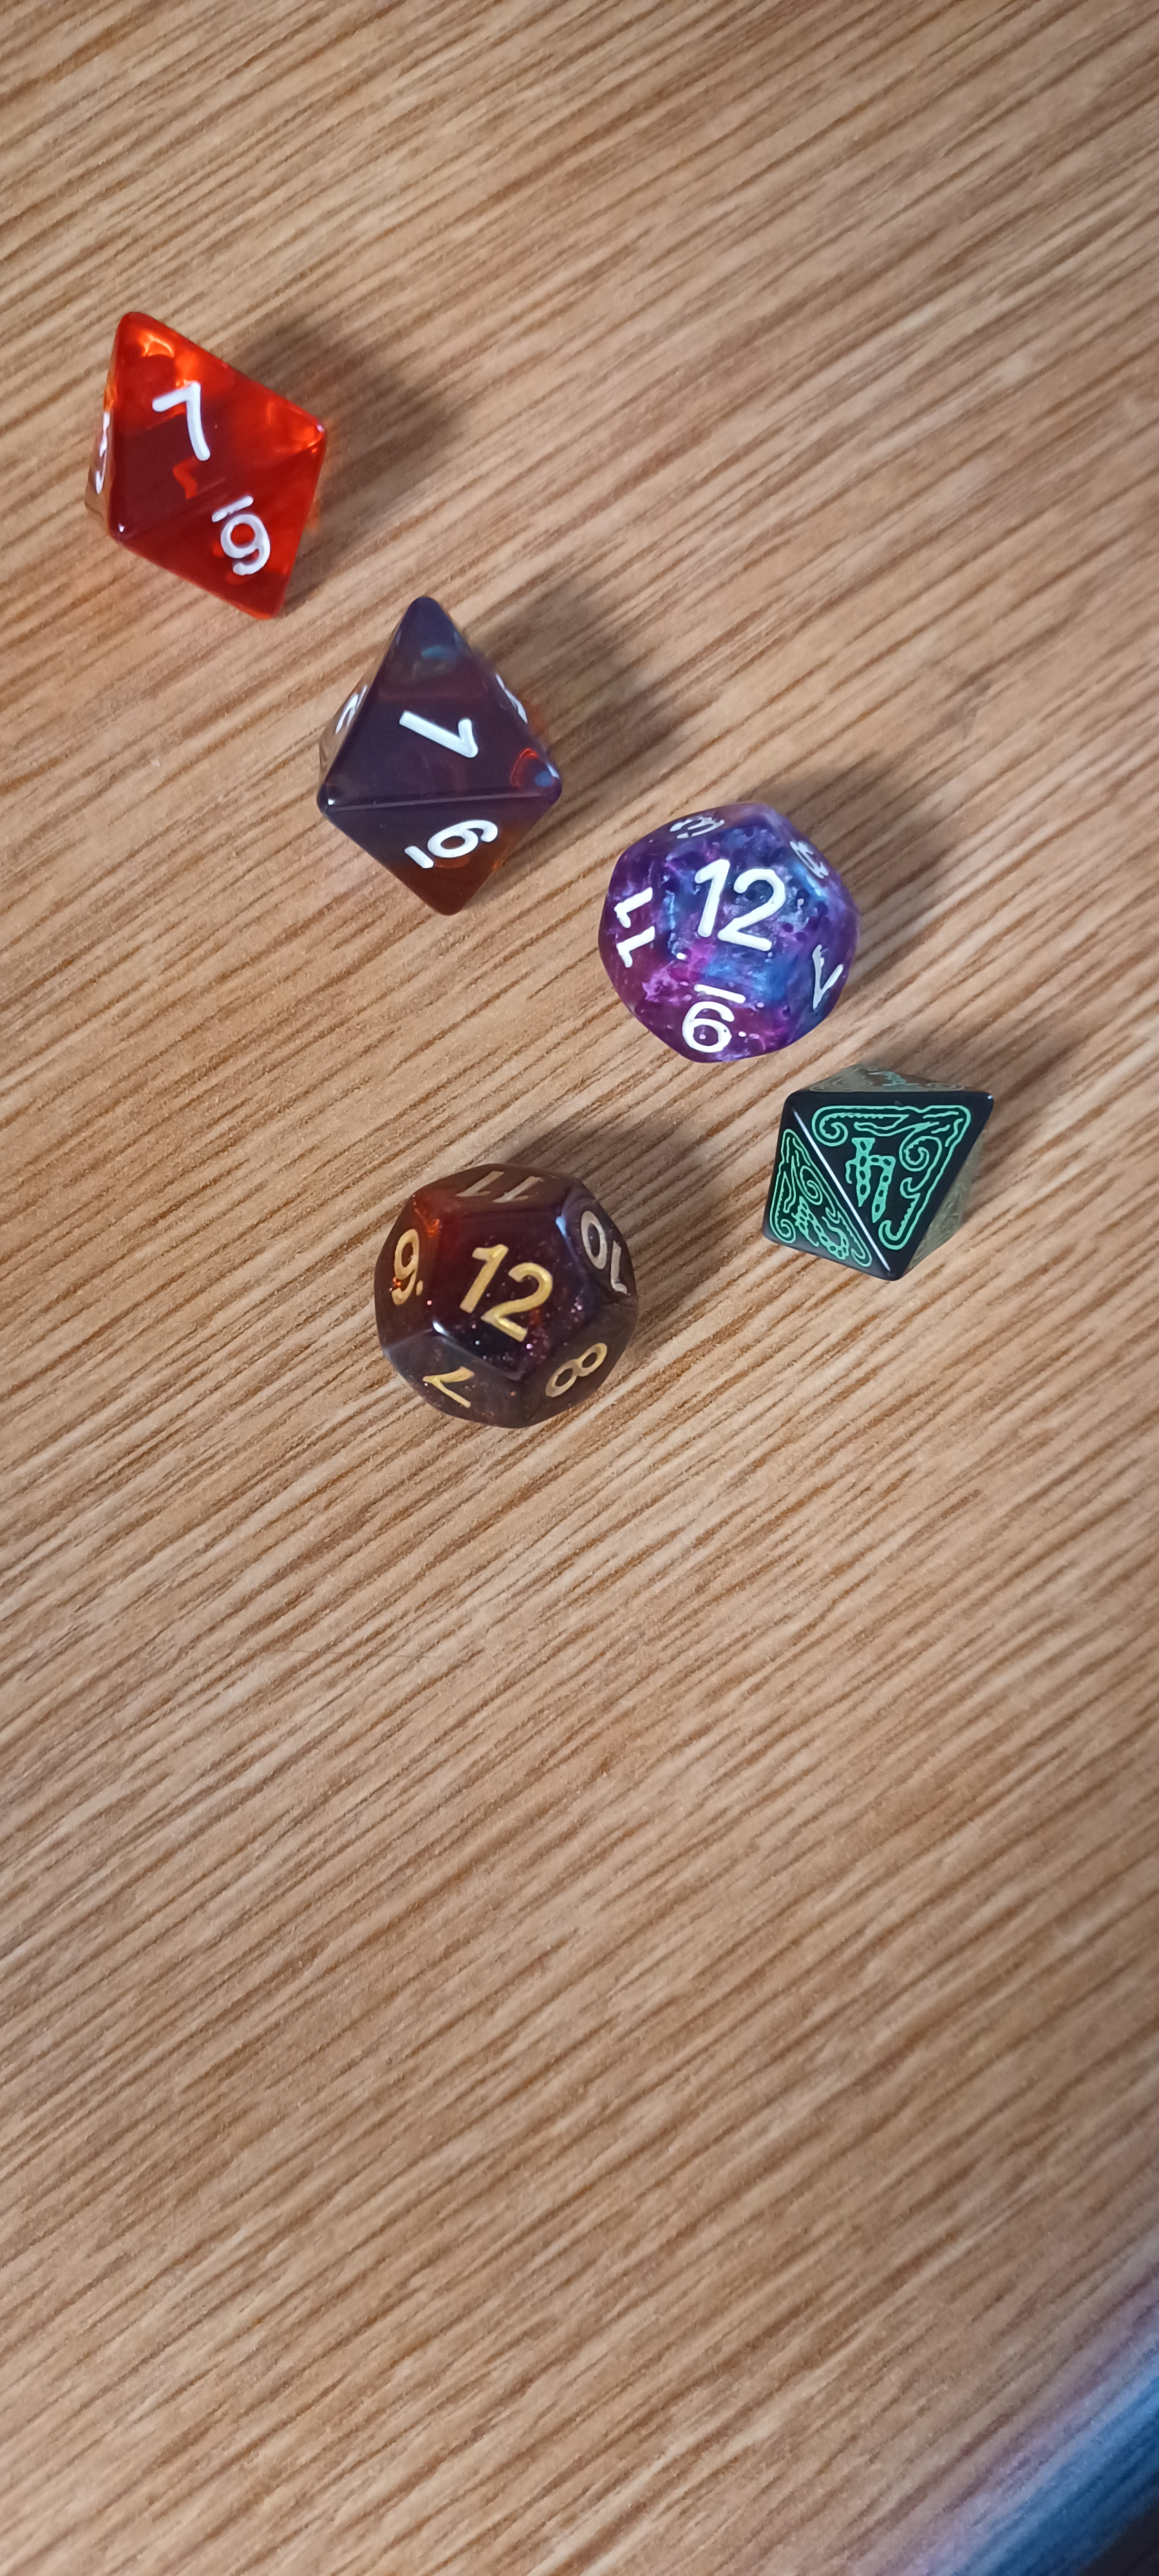four: (760, 1061, 1006, 1296)
one: (307, 565, 583, 930)
seven: (54, 294, 361, 629)
twelve: (325, 1130, 693, 1449), (581, 775, 886, 1091)
